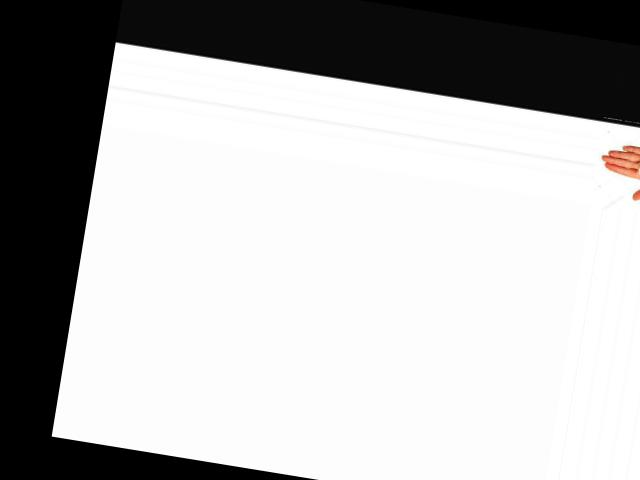egg: (636, 158, 640, 183)
